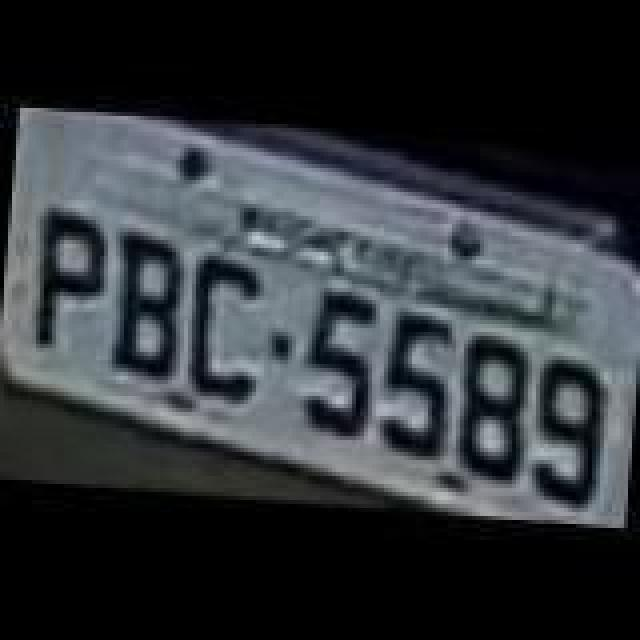5: (292, 280, 380, 444), (374, 306, 458, 458)
8: (448, 330, 536, 482)
9: (522, 348, 614, 508)
B: (100, 226, 188, 382)
C: (178, 248, 270, 404)
P: (30, 206, 114, 354)
